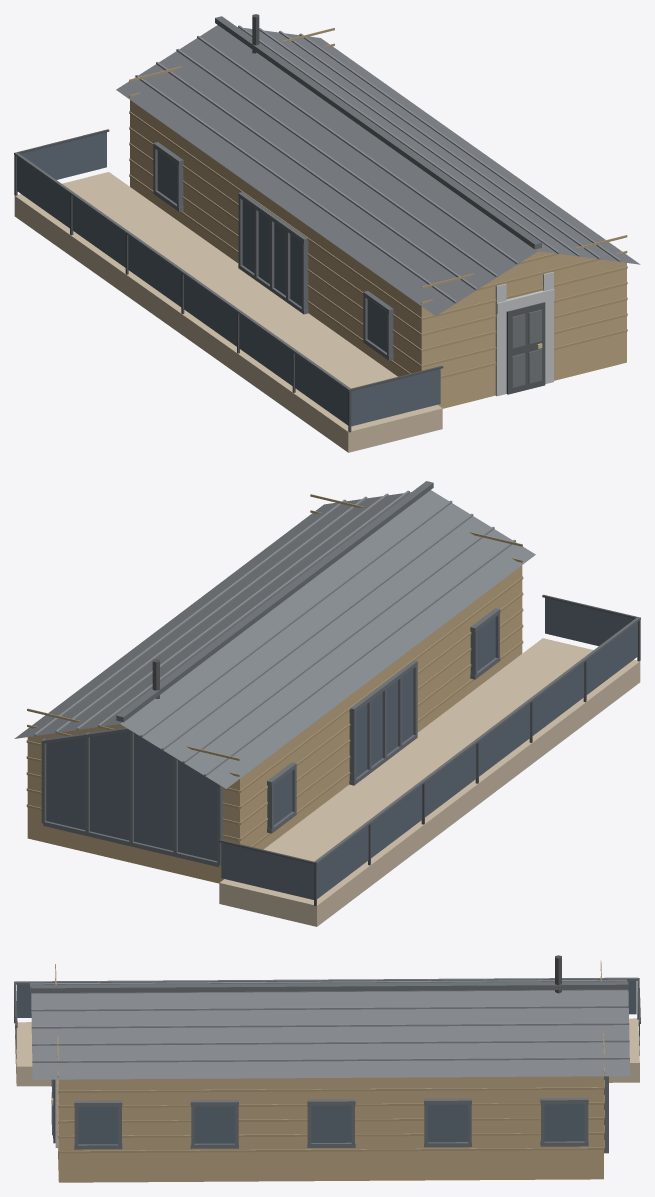
3 renders of one model, top to bottom at view 1: azimuth 30°, elevation 25°; view 2: azimuth 150°, elevation 25°; view 3: azimuth 270°, elevation 25°, orthographic. The views are drawn at different scales.
Visible parts, largest first — view 1: slate, door_wood, larch, slate_dk, slate_lt, door_wood_p, window_glass_008, stone_band, window_glass_007, window_glass_002, window_glass_006, window_glass_005 (+12 smaller); view 2: slate, larch, door_wood, window_glass_015, slate_dk, slate_lt, door_wood_p, window_glass_007, window_glass_008, window_glass_005, window_glass_004, window_glass_001 (+10 smaller); view 3: slate, door_wood, slate_dk, slate_lt, door_wood_p, larch, window_glass_017, window_glass_018, window_glass_020, window_glass_016, window_glass_019, pipe (+1 smaller).
Boxes of the visible parts, <box> form: slate: <box>116,25,640,316</box>; door_wood: <box>130,100,626,408</box>; larch: <box>14,172,442,452</box>; slate_dk: <box>14,16,541,390</box>; slate_lt: <box>135,25,621,303</box>; door_wood_p: <box>129,28,627,378</box>; window_glass_008: <box>351,369,440,426</box>; stone_band: <box>495,272,554,396</box>; window_glass_007: <box>20,132,106,179</box>; window_glass_002: <box>72,196,125,267</box>; window_glass_006: <box>295,354,348,425</box>; window_glass_005: <box>239,314,292,385</box>; slate: <box>14,490,535,788</box>; larch: <box>219,638,640,926</box>; door_wood: <box>27,565,522,883</box>; window_glass_015: <box>46,731,217,860</box>; slate_dk: <box>41,481,639,867</box>; slate_lt: <box>34,490,515,776</box>; door_wood_p: <box>26,494,523,847</box>; window_glass_007: <box>221,842,313,899</box>; window_glass_008: <box>545,598,634,646</box>; window_glass_005: <box>532,662,584,735</box>; window_glass_004: <box>479,703,530,776</box>; window_glass_001: <box>317,825,368,898</box>; slate: <box>29,979,629,1079</box>; door_wood: <box>58,979,603,1182</box>; slate_dk: <box>15,977,638,1153</box>; slate_lt: <box>30,979,629,1062</box>; door_wood_p: <box>55,961,604,1153</box>; larch: <box>15,1018,639,1086</box>; window_glass_017: <box>194,1106,234,1143</box>; window_glass_018: <box>311,1105,351,1142</box>; window_glass_020: <box>544,1104,584,1141</box>; window_glass_016: <box>78,1107,118,1144</box>; window_glass_019: <box>428,1104,467,1142</box>; pipe: <box>14,955,640,1027</box>.
Bounding box in the file's own units: 7.93 × 4.4 × 14.33.
